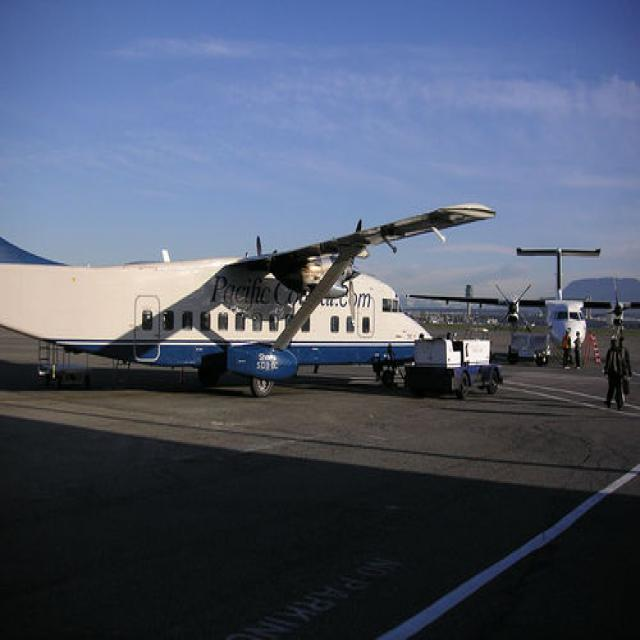aeroplane: (1, 202, 498, 399), (406, 247, 640, 351)
person: (604, 337, 626, 411), (616, 338, 634, 401), (560, 327, 572, 370), (574, 330, 584, 370)
